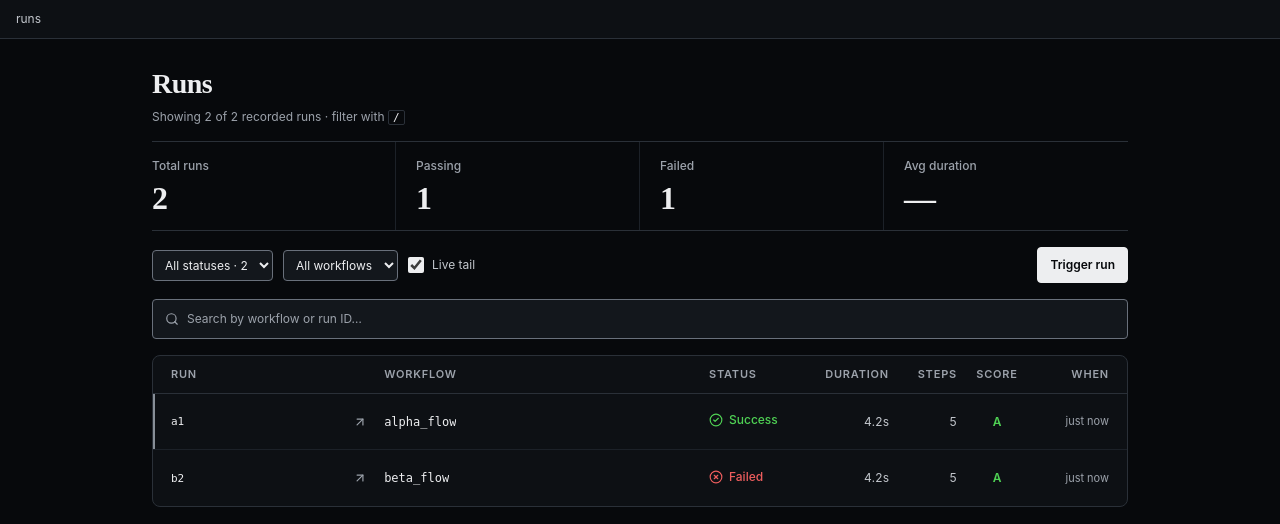
Test: RunsPage › master-detail selection › filters by status with the shared status words and sets no fake CLI twin
Select "Failed · 1" in the dropdown named "Filter by status" at (212, 265), box top-left (152, 250), bottom-right (273, 280)
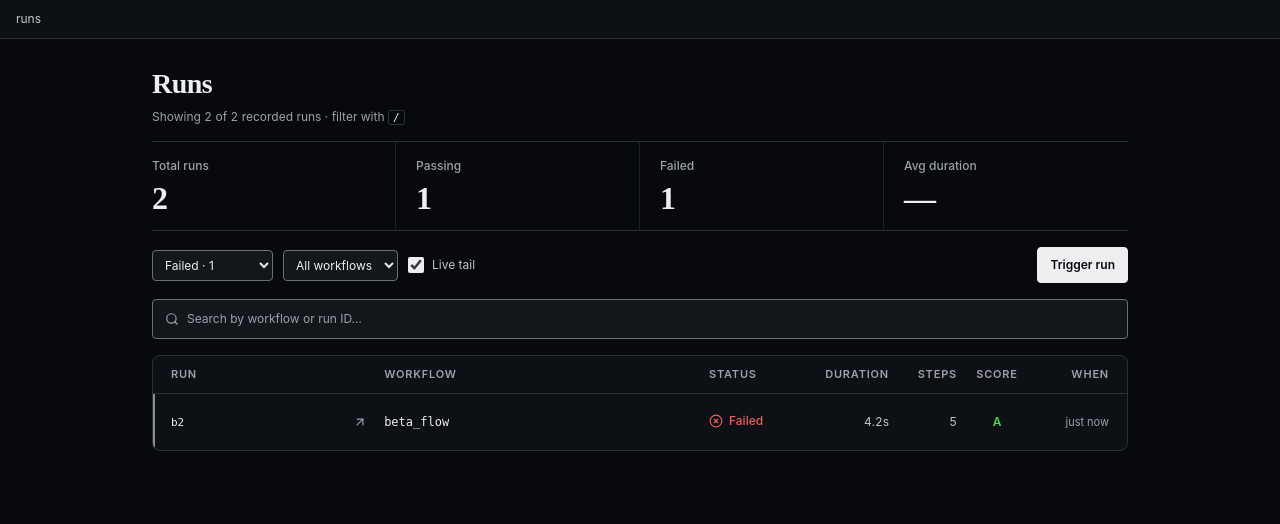
Expected: the link "beta_flow" is shown, top-left (384, 414), bottom-right (449, 430)
Now the link "alpha_flow" is gone
